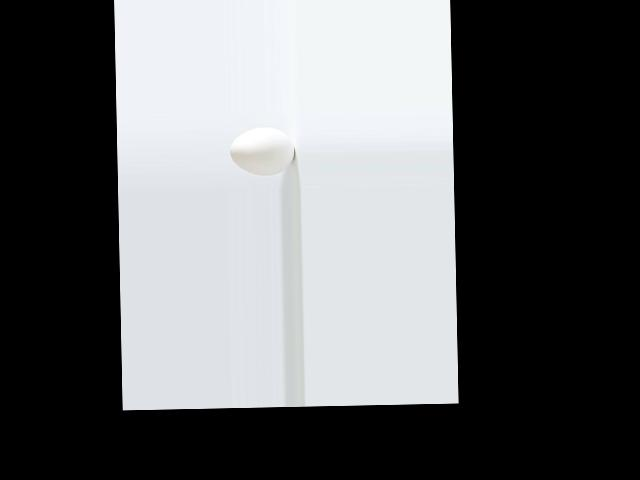egg: (229, 126, 295, 175)
